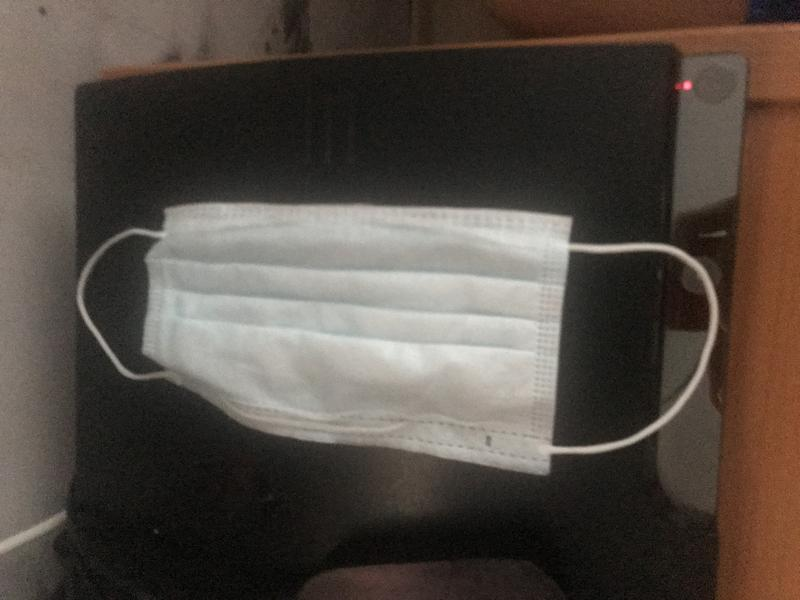medical_mask: (77, 203, 719, 459)
